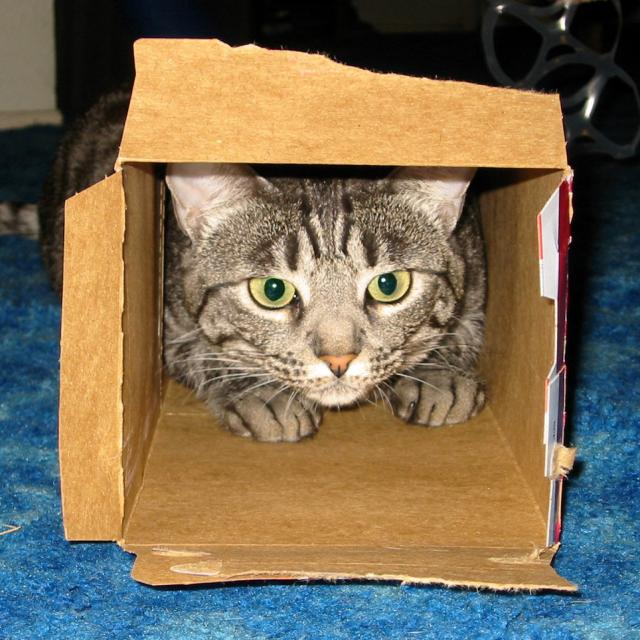Cat: (158, 164, 503, 442)
